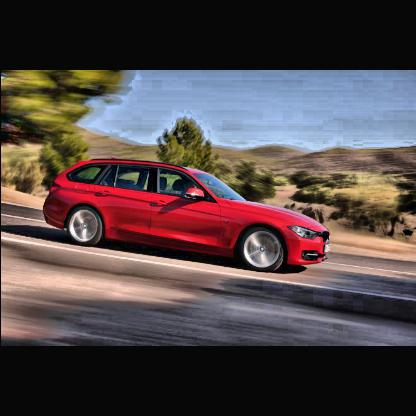BMW 3 Series Wagon 2012: (43, 158, 329, 273)
